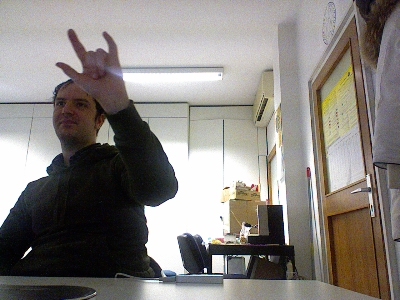我爱你: (54, 27, 125, 98)
